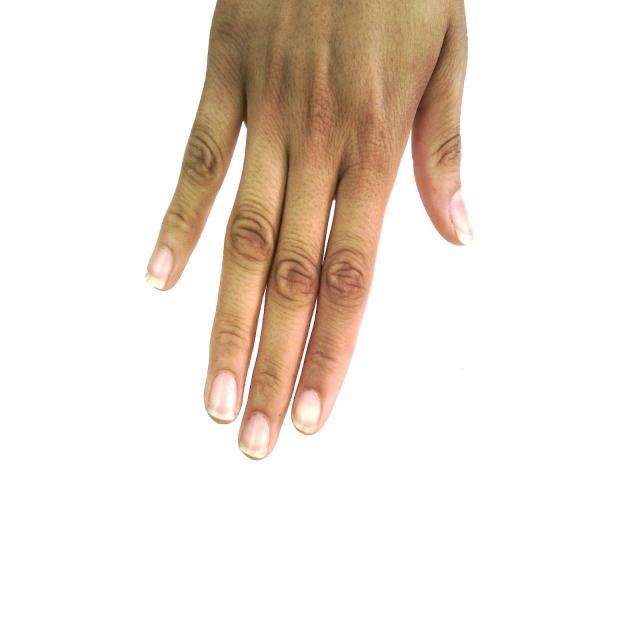Fingernail: (209, 372, 239, 421), (240, 413, 270, 458), (450, 192, 473, 243), (293, 390, 320, 433), (147, 246, 172, 287)
